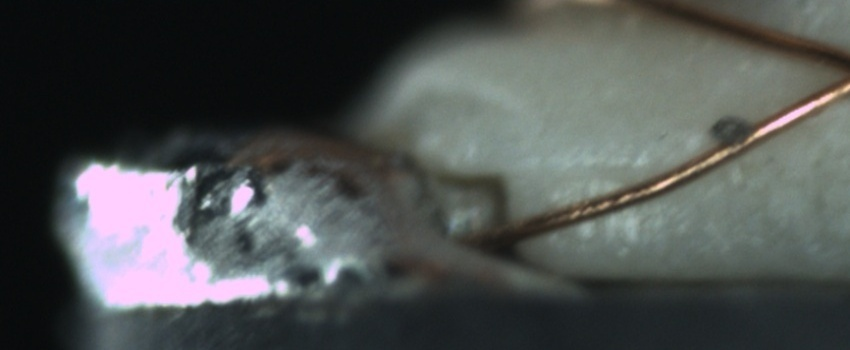DL: (535, 138, 665, 199)
